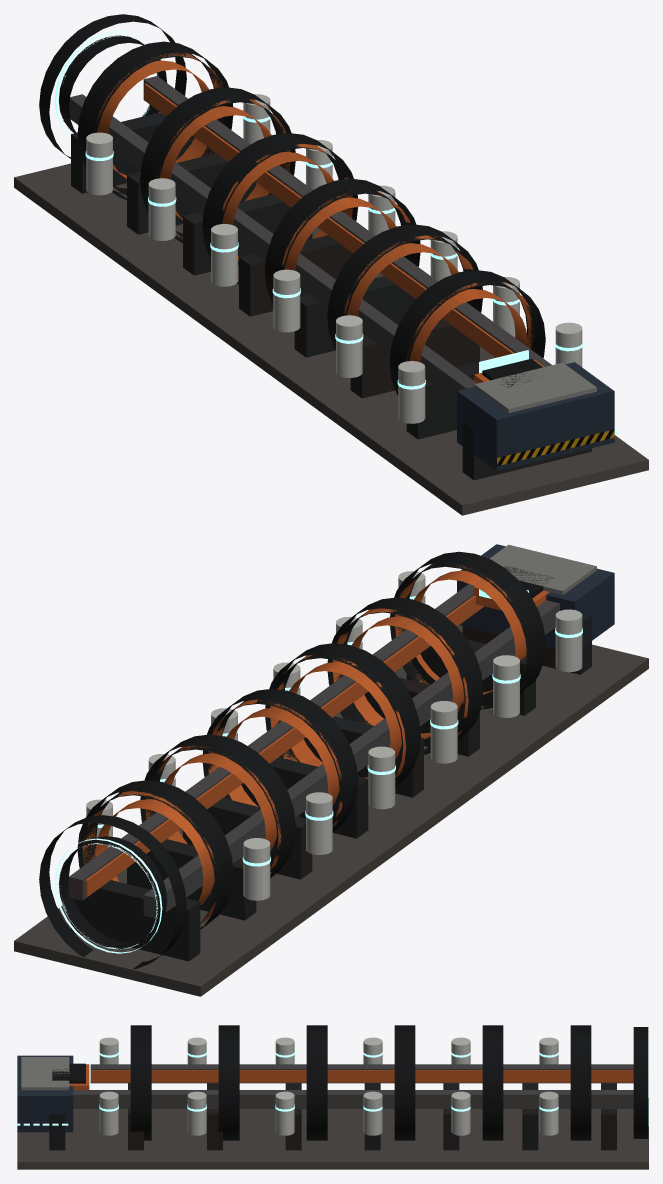
File: concept_rail_gun.glb
The picture shows the model from 3 angles, top to bottom: view 1: azimuth 30°, elevation 25°; view 2: azimuth 150°, elevation 25°; view 3: azimuth 270°, elevation 25°; orthographic projection. The views are drawn at different scales.
Parts seen in each view (by area): view 1: Frame, Sled; view 2: Frame, Sled; view 3: Frame, Sled.
Part boxes in pixels (x1=…): Frame: x1=14, y1=14, x2=648, y2=515; Sled: x1=474, y1=350, x2=544, y2=387; Frame: x1=14, y1=544, x2=648, y2=996; Sled: x1=474, y1=566, x2=553, y2=610; Frame: x1=17, y1=1025, x2=648, y2=1169; Sled: x1=52, y1=1059, x2=90, y2=1089.
Bounding box in the file's own units: 1.9 × 1.47 × 7.94.
